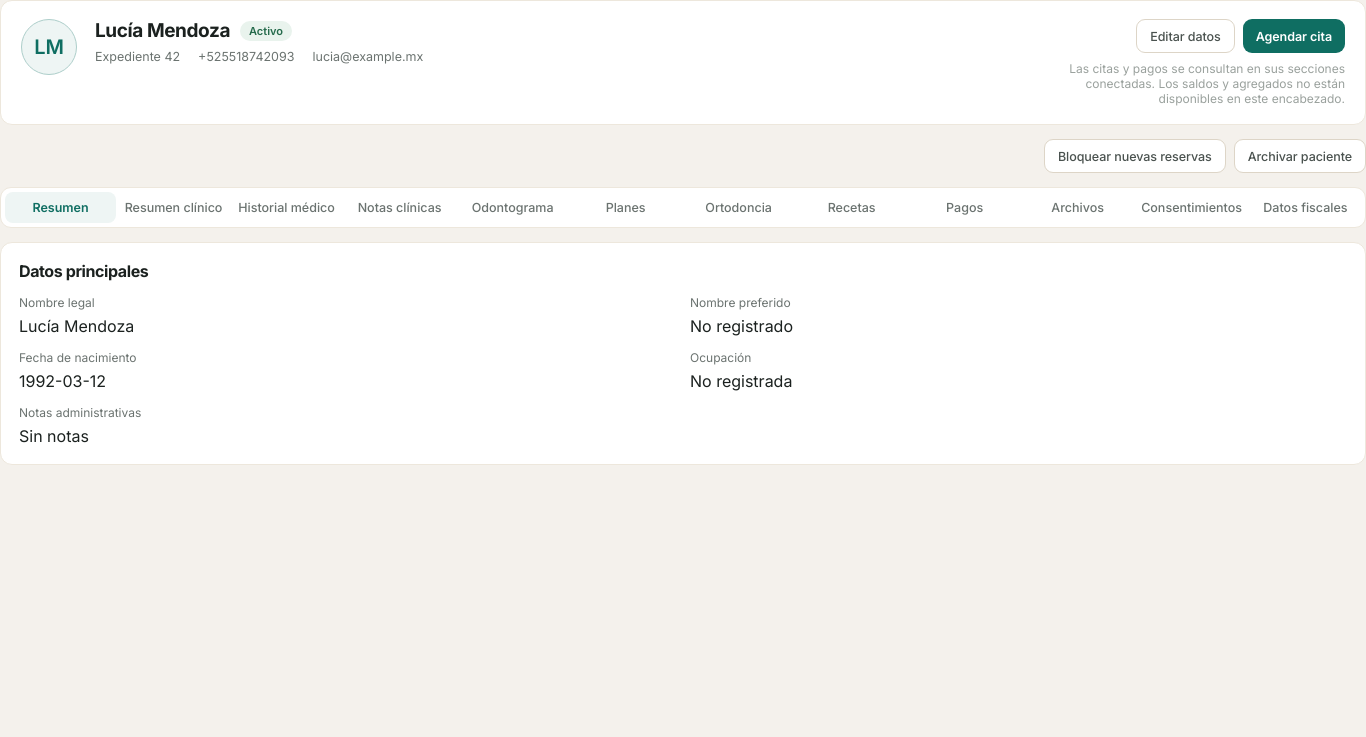
Test: PatientRecordPage › loads clinical resources only when a permitted user opens a clinical tab
Expected: the heading "Lucía Mendoza" is shown, [95,19,230,42]
What coordinates should you click on to do the following:
click the tab "Resumen clínico"
I would click on:
 (174, 208)
Its box is [118,192,229,223].
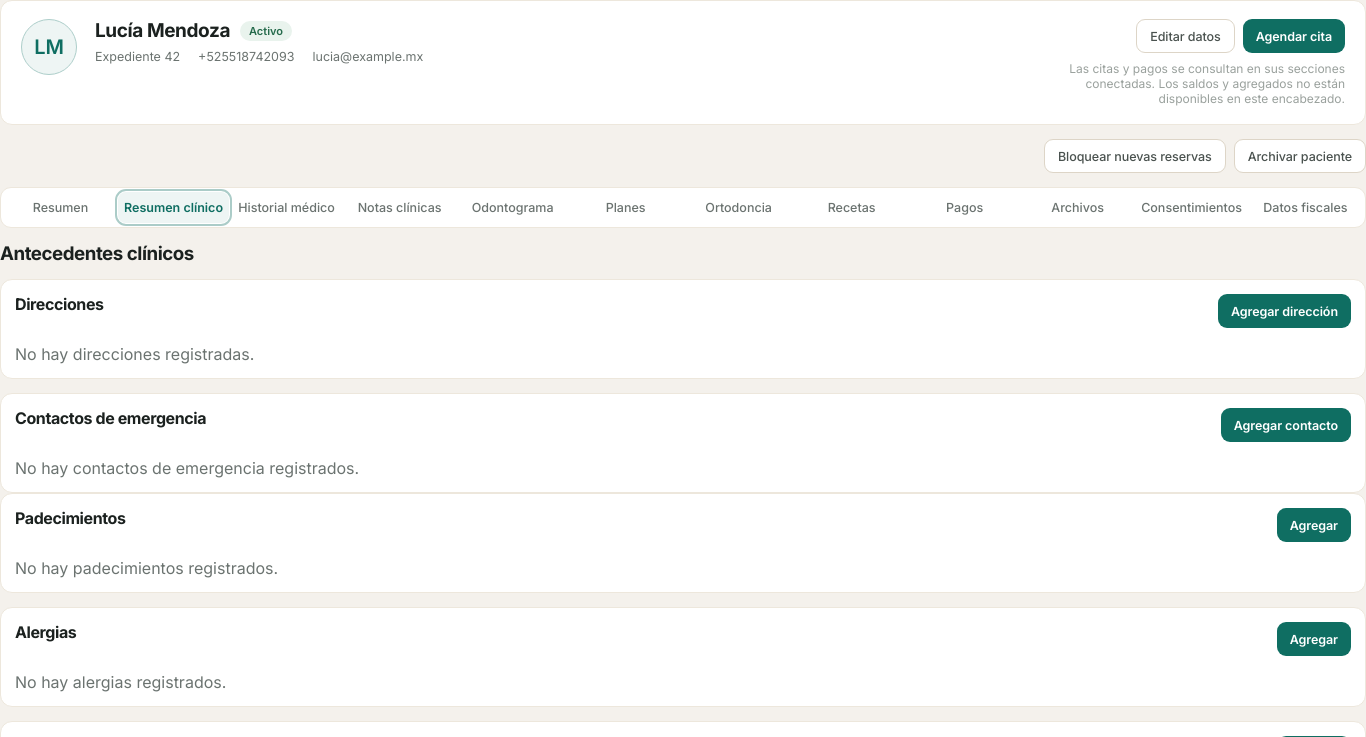
Expected: the heading "Antecedentes clínicos" is shown, [0,242,194,265]
